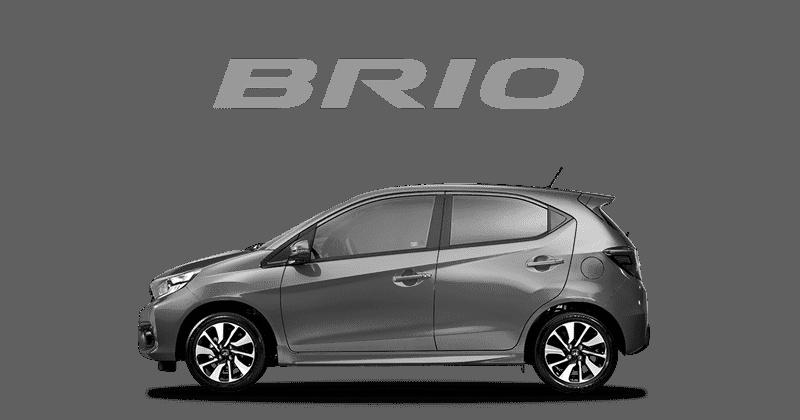Car hood: (158, 241, 249, 289)
Fender - -F-L-: (185, 246, 283, 363)
Fender - -R-L-: (523, 208, 625, 337)
Front bumper: (133, 283, 205, 376)
Headlight - -L-: (147, 263, 201, 302)
Passenger-s door - -F-L-: (280, 176, 442, 372)
Passenger-s door - -R-L-: (432, 177, 577, 365)
Rear bumper: (602, 274, 651, 357)
Rear light - -L-: (601, 243, 644, 286)
Side bumper - -L-: (274, 326, 530, 377)
Side mirror - -L-: (286, 239, 313, 266)
